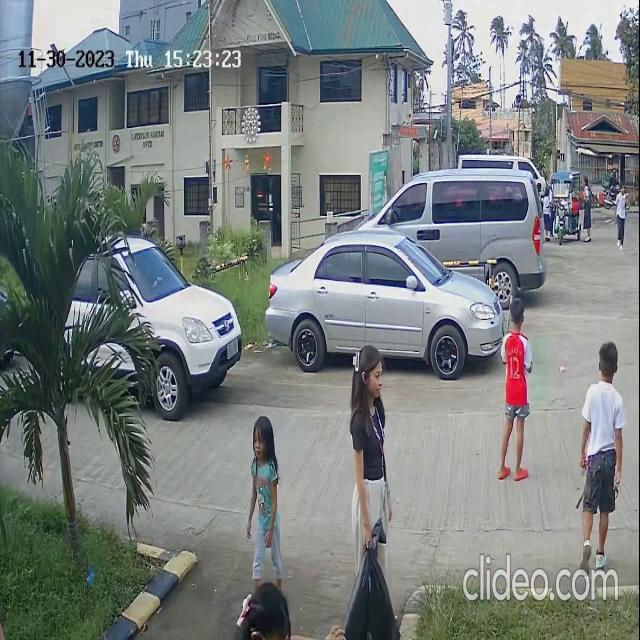garbage: (336, 525, 408, 640)
person: (340, 348, 402, 552), (578, 336, 626, 558), (239, 414, 289, 594), (496, 298, 534, 494), (612, 176, 630, 258)
